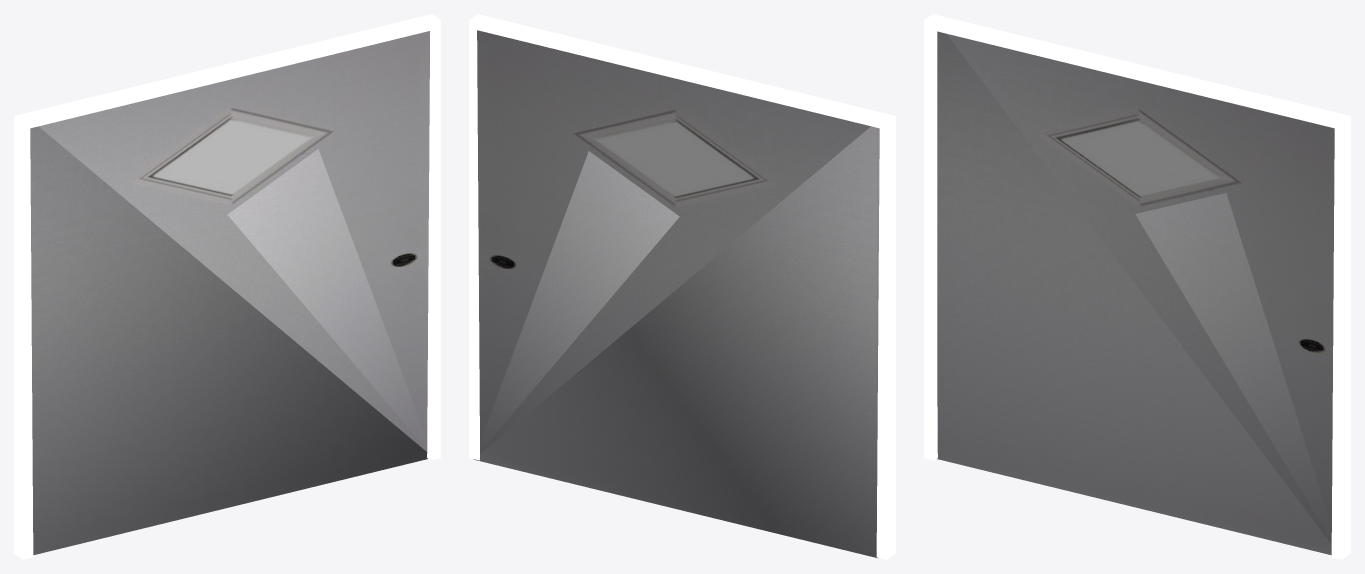
The model's file is AdimaondWindowsDoor1.f34c1230.gltf.
The picture shows the model from 3 angles, left to right: view 1: azimuth 30°, elevation 25°; view 2: azimuth 150°, elevation 25°; view 3: azimuth 330°, elevation 25°; orthographic projection.
Visible parts, largest first — view 1: Cube.001, Cube.002; view 2: Cube.001, Cube.002; view 3: Cube.001, Cube.002.
Boxes of the visible parts, x1,y1,x2,y2 form: Cube.001: [30, 31, 430, 555]; Cube.002: [14, 14, 440, 559]; Cube.001: [473, 30, 879, 558]; Cube.002: [469, 14, 895, 559]; Cube.001: [937, 31, 1334, 555]; Cube.002: [924, 14, 1350, 559].
Bounding box in the file's own units: 6 × 6.02 × 0.22.
Materials: 2 (1 with a texture image).
